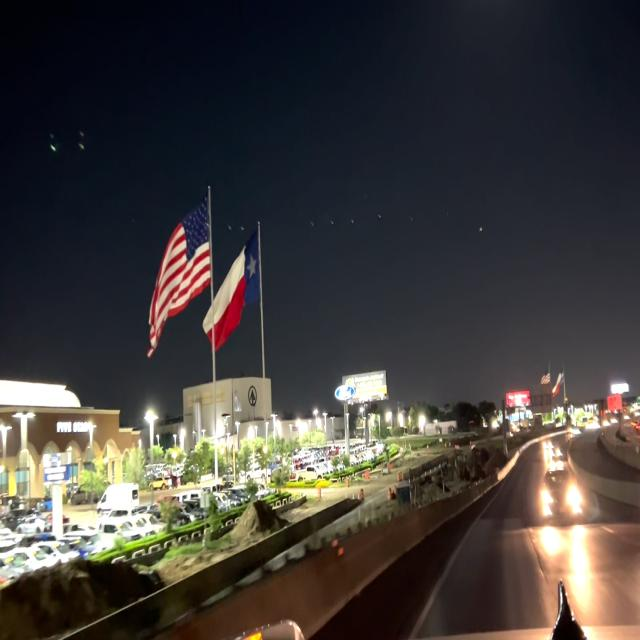back-of-sign: (527, 380, 555, 421)
